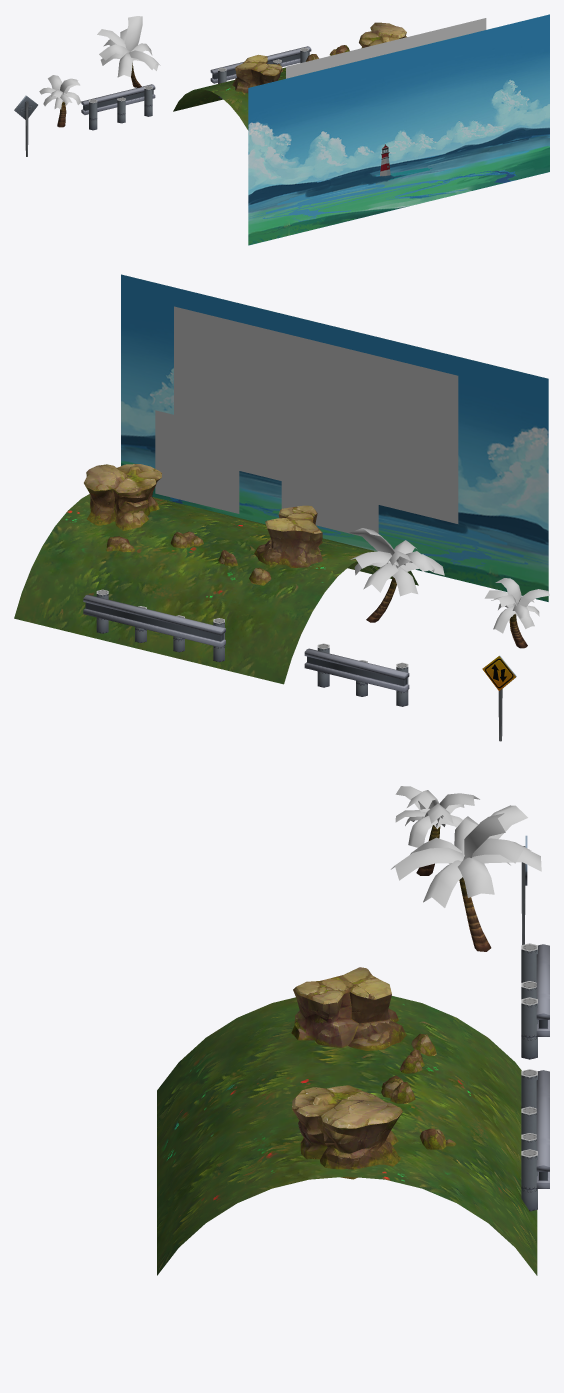
File: stone&ground.fbx
3 views of the same model, one above another, from view 1: azimuth 30°, elevation 25°; view 2: azimuth 150°, elevation 25°; view 3: azimuth 270°, elevation 25° (orthographic). The views are drawn at different scales.
Visible parts, largest first — view 1: background, alpha4, tree01, wujian1, dimian, stone20, wujian2, tree02, stone1, wujian3; view 2: background, alpha4, dimian, alpha2, alpha1, stone1, wujian2, tree01, stone20, wujian1, tree02, wujian3; view 3: dimian, stone1, tree01, stone20, wujian2, wujian1, tree02.
Boxes of the visible parts, bbox=[...] form: background: bbox=[248, 14, 549, 245]; alpha4: bbox=[286, 18, 486, 78]; tree01: bbox=[97, 16, 160, 87]; wujian1: bbox=[81, 84, 155, 130]; dimian: bbox=[173, 67, 285, 130]; stone20: bbox=[232, 54, 282, 93]; wujian2: bbox=[210, 46, 311, 98]; tree02: bbox=[39, 75, 81, 127]; stone1: bbox=[359, 22, 406, 48]; wujian3: bbox=[14, 95, 37, 156]; background: bbox=[121, 274, 548, 601]; alpha4: bbox=[174, 306, 458, 523]; dimian: bbox=[14, 494, 418, 684]; alpha2: bbox=[155, 410, 239, 513]; alpha1: bbox=[281, 445, 378, 536]; stone1: bbox=[84, 464, 161, 530]; wujian2: bbox=[83, 589, 225, 662]; tree01: bbox=[349, 528, 444, 622]; stone20: bbox=[254, 505, 323, 568]; wujian1: bbox=[304, 643, 409, 706]; tree02: bbox=[484, 578, 549, 648]; wujian3: bbox=[482, 655, 516, 741]; dimian: bbox=[157, 996, 537, 1275]; stone1: bbox=[292, 1085, 402, 1179]; tree01: bbox=[391, 805, 541, 951]; stone20: bbox=[291, 967, 406, 1050]; wujian2: bbox=[521, 1069, 549, 1211]; wujian1: bbox=[521, 943, 549, 1059]; tree02: bbox=[395, 786, 479, 875].
Size of the model in its own units: 42.66 by 15.77 by 24.34.
